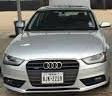Cars: (3, 7, 110, 93)
